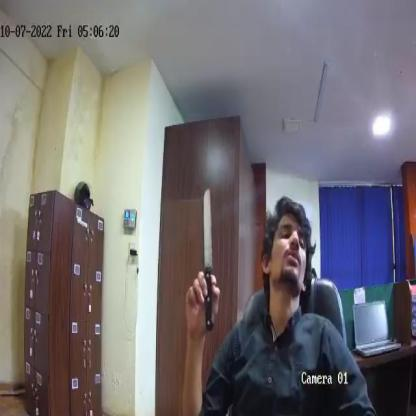Knife: (184, 187, 221, 332)
